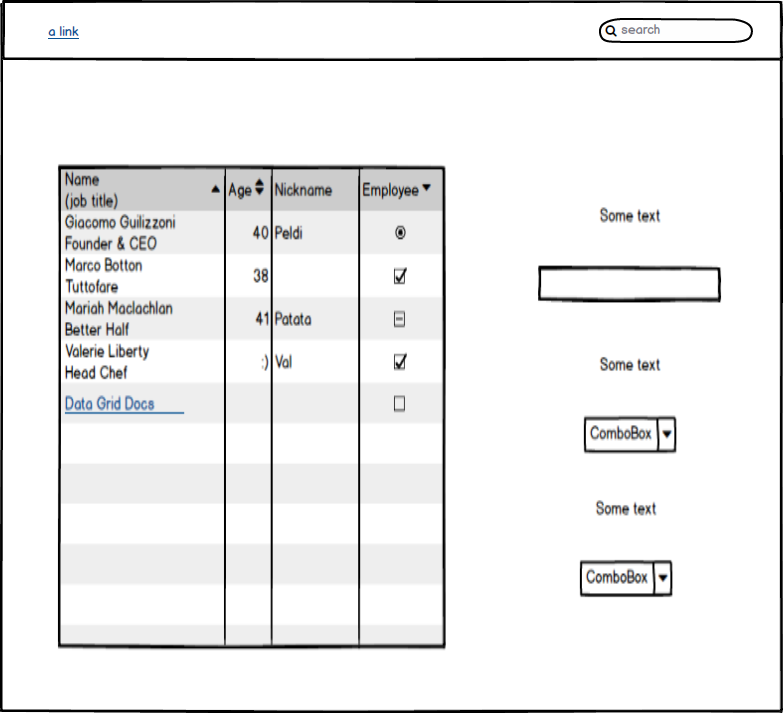input: (534, 262, 728, 307)
label: (592, 199, 668, 230), (592, 349, 669, 379), (589, 493, 666, 519)
navlink: (39, 19, 90, 45)
search: (595, 12, 758, 48)
select_box: (573, 556, 683, 603), (577, 412, 683, 456)
table: (51, 161, 454, 654)
